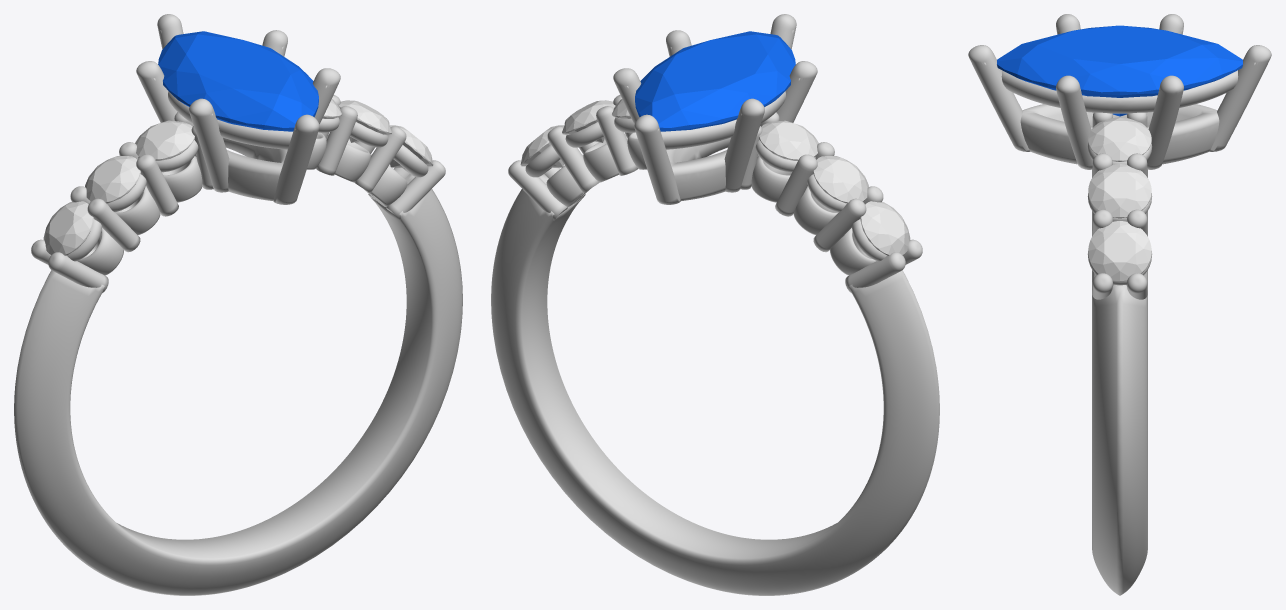
The model's file is bluesapphire-marquise-platinum-6prong-knifeedge-7stone.glb.
The picture shows the model from 3 angles, left to right: view 1: azimuth 30°, elevation 25°; view 2: azimuth 150°, elevation 25°; view 3: azimuth 270°, elevation 25°; orthographic projection.
Parts seen in each view (by area): view 1: metal.001, stone, dia, dia.003, dia.004, dia.006, dia.005; view 2: metal.001, stone, dia, dia.003, dia.004, dia.006, dia.005; view 3: metal.001, stone, dia.005, dia.006, dia.007.
Part boxes in pixels (box(x1,y1,x2,y2)): metal.001: box(14, 14, 462, 595); stone: box(158, 31, 318, 131); dia: box(43, 201, 93, 255); dia.003: box(85, 155, 140, 203); dia.004: box(135, 120, 194, 160); dia.006: box(338, 100, 391, 142); dia.005: box(389, 125, 433, 167); metal.001: box(491, 14, 939, 595); stone: box(635, 31, 795, 131); dia: box(860, 201, 910, 255); dia.003: box(813, 155, 868, 203); dia.004: box(759, 120, 818, 160); dia.006: box(562, 100, 615, 142); dia.005: box(520, 125, 564, 167); metal.001: box(968, 14, 1271, 595); stone: box(997, 25, 1242, 116); dia.005: box(1088, 221, 1151, 281); dia.006: box(1088, 164, 1151, 218); dia.007: box(1088, 117, 1151, 161).
Size of the model in its own units: 20.5 by 22.93 by 11.96.
